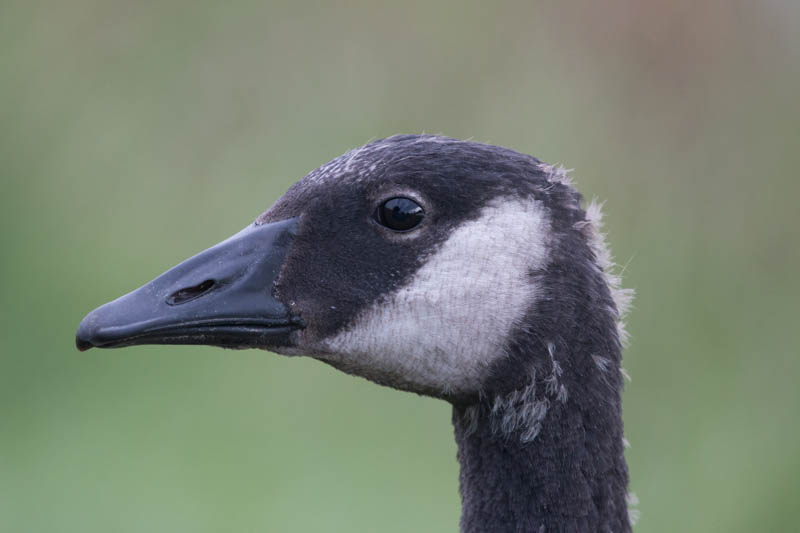goose-head: (76, 133, 624, 408)
